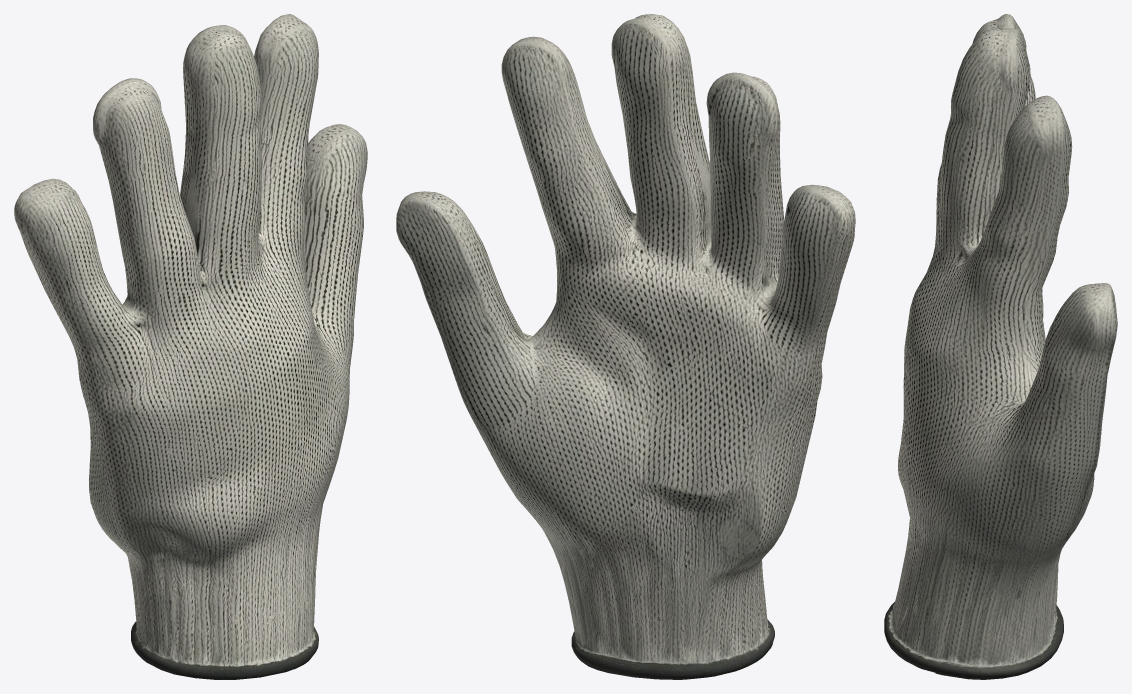
Rendered from litecotton60gr.glb.
3 renders of one model, left to right at view 1: azimuth 30°, elevation 25°; view 2: azimuth 150°, elevation 25°; view 3: azimuth 270°, elevation 25°, orthographic. The views are drawn at different scales.
Parts seen in each view (by area): view 1: Mesh_0; view 2: Mesh_0; view 3: Mesh_0.
Boxes of the visible parts, left/top/right/bottom form: Mesh_0: left=14, top=14, right=367, bottom=679; Mesh_0: left=396, top=14, right=855, bottom=679; Mesh_0: left=884, top=14, right=1117, bottom=679.
Bounding box in the file's own units: 1.26 × 1.9 × 0.6529.
1 material, 1 textured.
